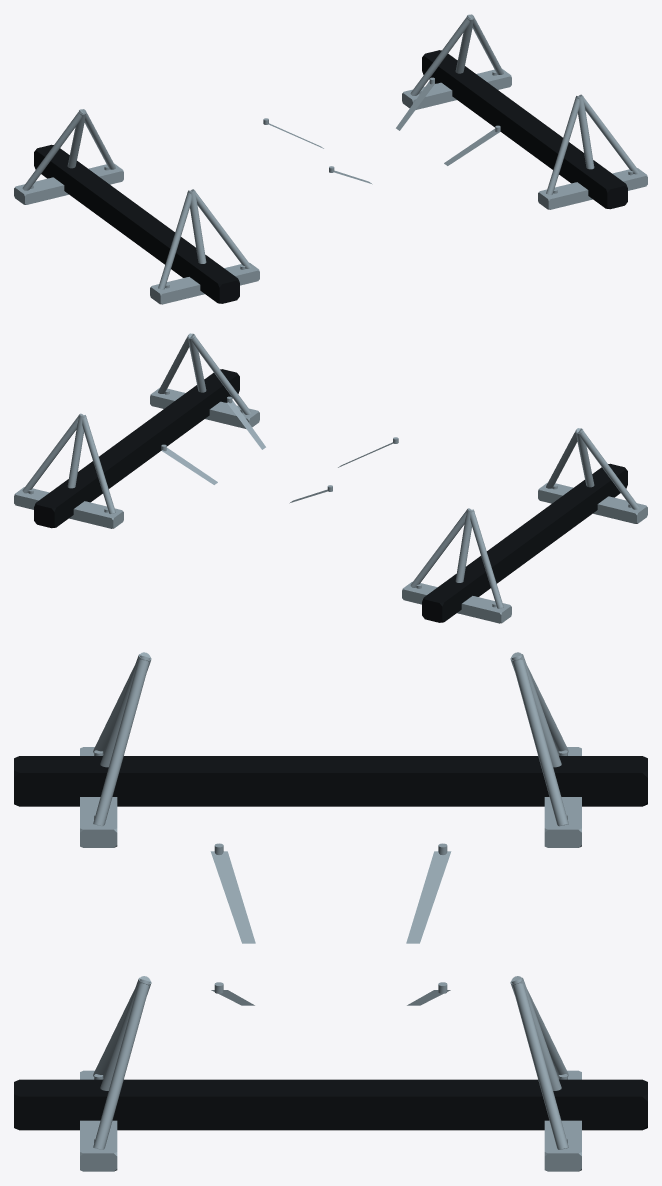
The model's file is bridge_frame.dae.
3 views of the same model, one above another, from view 1: azimuth 30°, elevation 25°; view 2: azimuth 150°, elevation 25°; view 3: azimuth 270°, elevation 25° (orthographic). The views are drawn at different scales.
Visible parts, largest first — view 1: node0, node1; view 2: node0, node1; view 3: node0, node1.
Boxes of the visible parts, x1=… form: node0: x1=34, y1=50, x2=627, y2=303; node1: x1=14, y1=14, x2=647, y2=304; node0: x1=34, y1=369, x2=627, y2=622; node1: x1=14, y1=333, x2=647, y2=623; node0: x1=14, y1=756, x2=647, y2=1130; node1: x1=80, y1=652, x2=581, y2=1171.
Size of the model in its own units: 1.67 by 1.1 by 0.2919.
